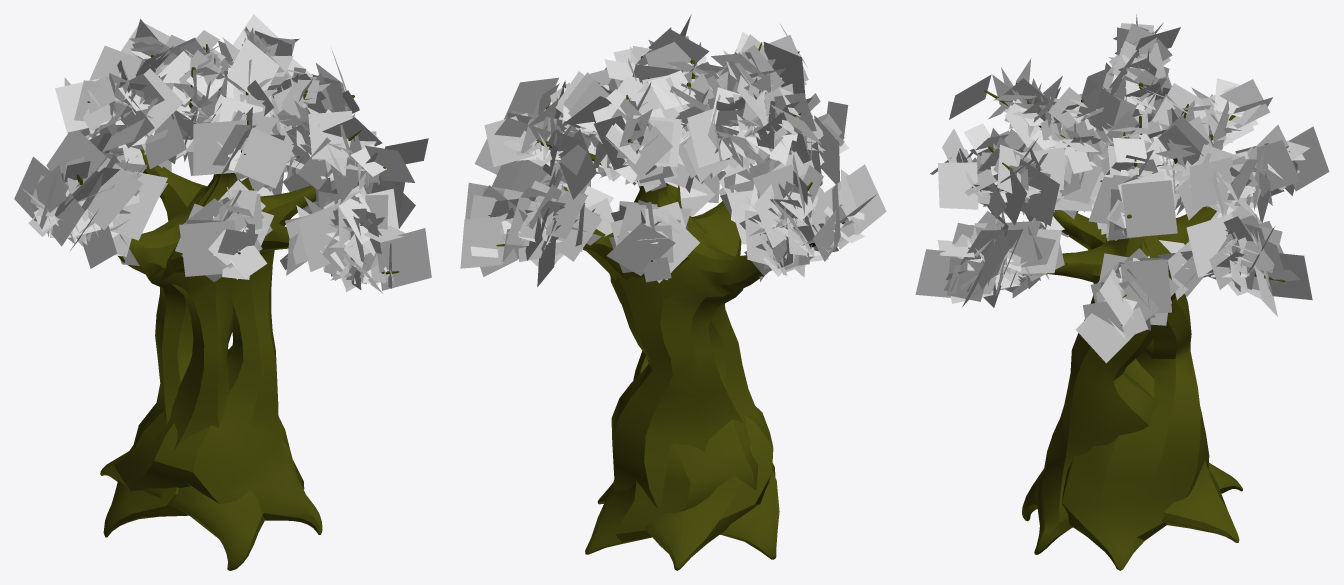
File: OliveTree.fbx
3 renders of one model, left to right at view 1: azimuth 30°, elevation 25°; view 2: azimuth 150°, elevation 25°; view 3: azimuth 270°, elevation 25°, orthographic. The views are drawn at different scales.
Visible parts, largest first — view 1: OliveTree; view 2: OliveTree; view 3: OliveTree.
Part boxes in pixels (x1,y1,x2,y2): OliveTree: (14,14,431,570); OliveTree: (460,14,886,570); OliveTree: (915,14,1329,570).
Size of the model in its own units: 149 by 175 by 137.
